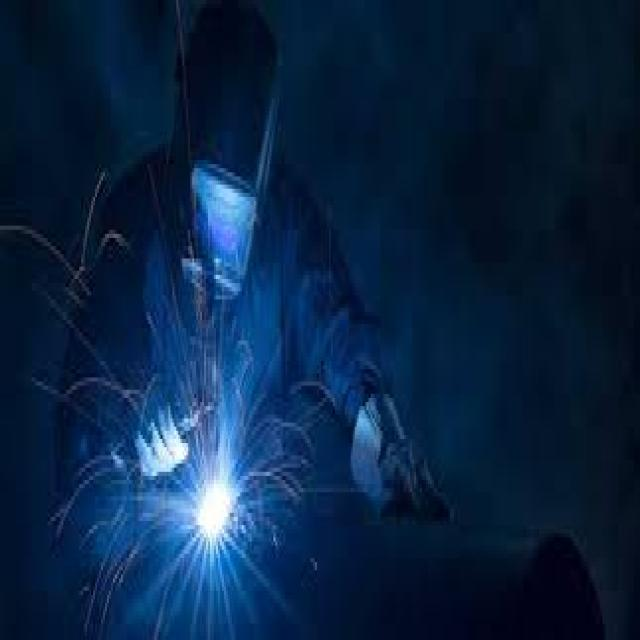welding: (196, 486, 233, 540)
